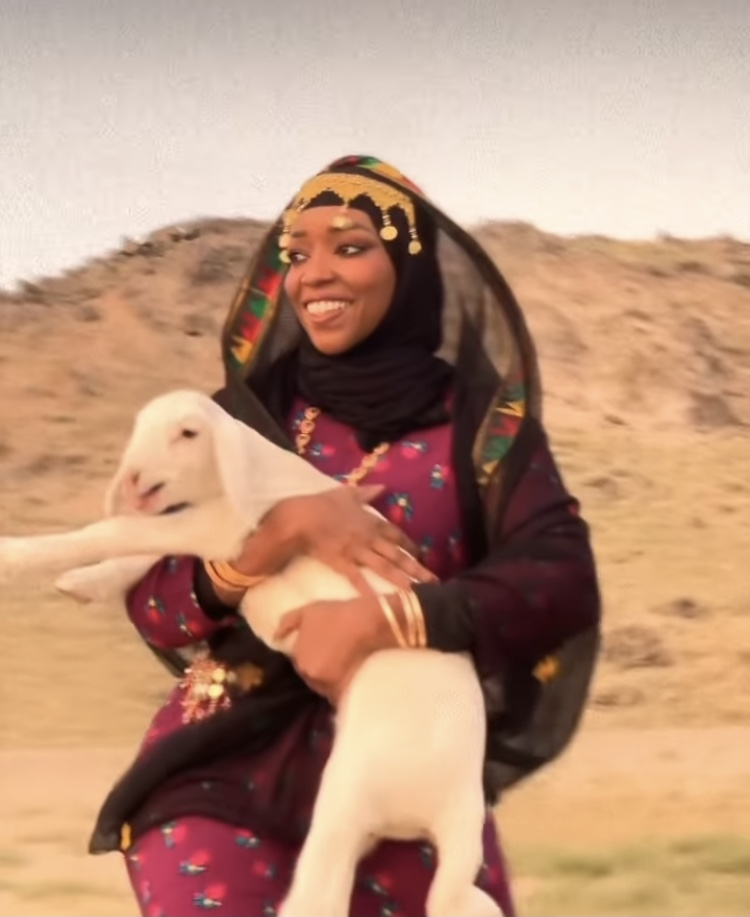Saudi_Founding_Day: (90, 149, 604, 917)
